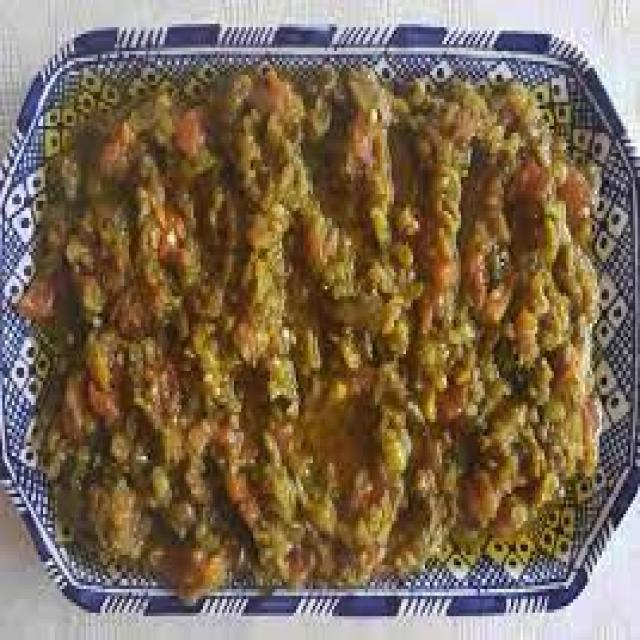Salade mechweya: (44, 59, 610, 572)
